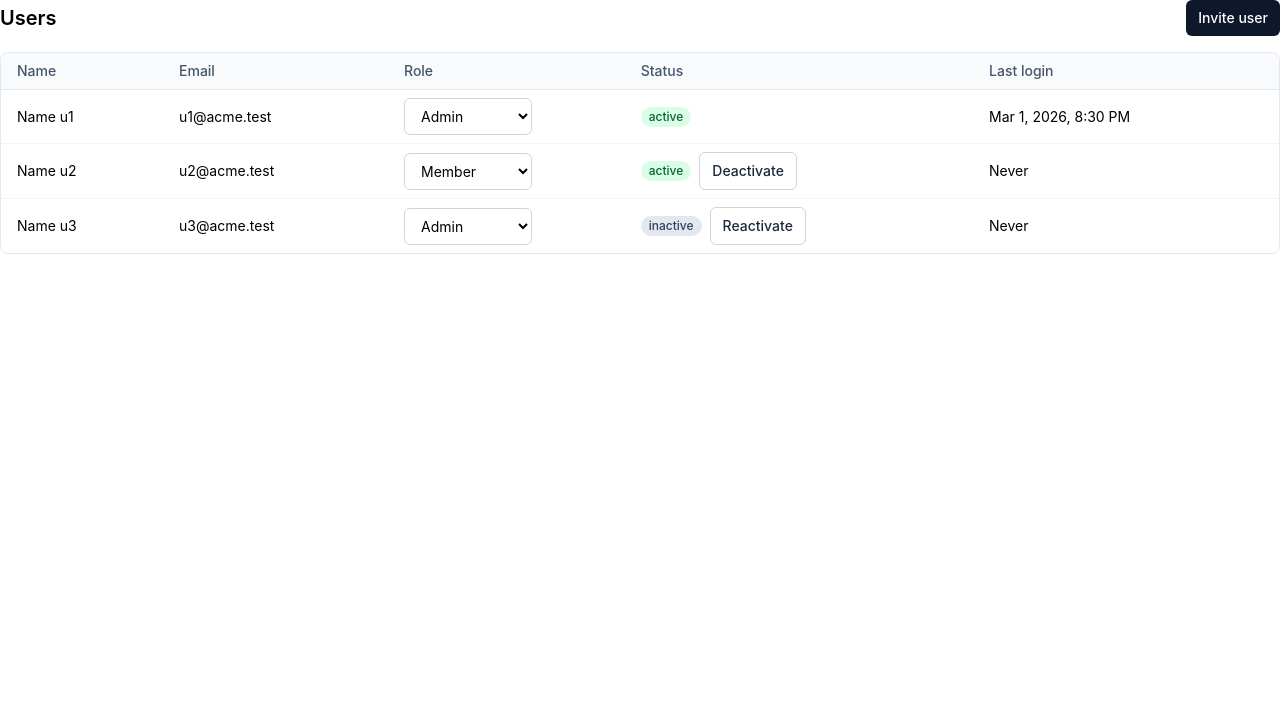
Test: UsersPage › keeps the invite modal open with the typed values when the email is taken
Expected: the text "Name u2" is shown, left=1, top=144, right=163, bottom=198
Click the button "Invite user".
click(1233, 18)  # box left=1186, top=0, right=1279, bottom=36
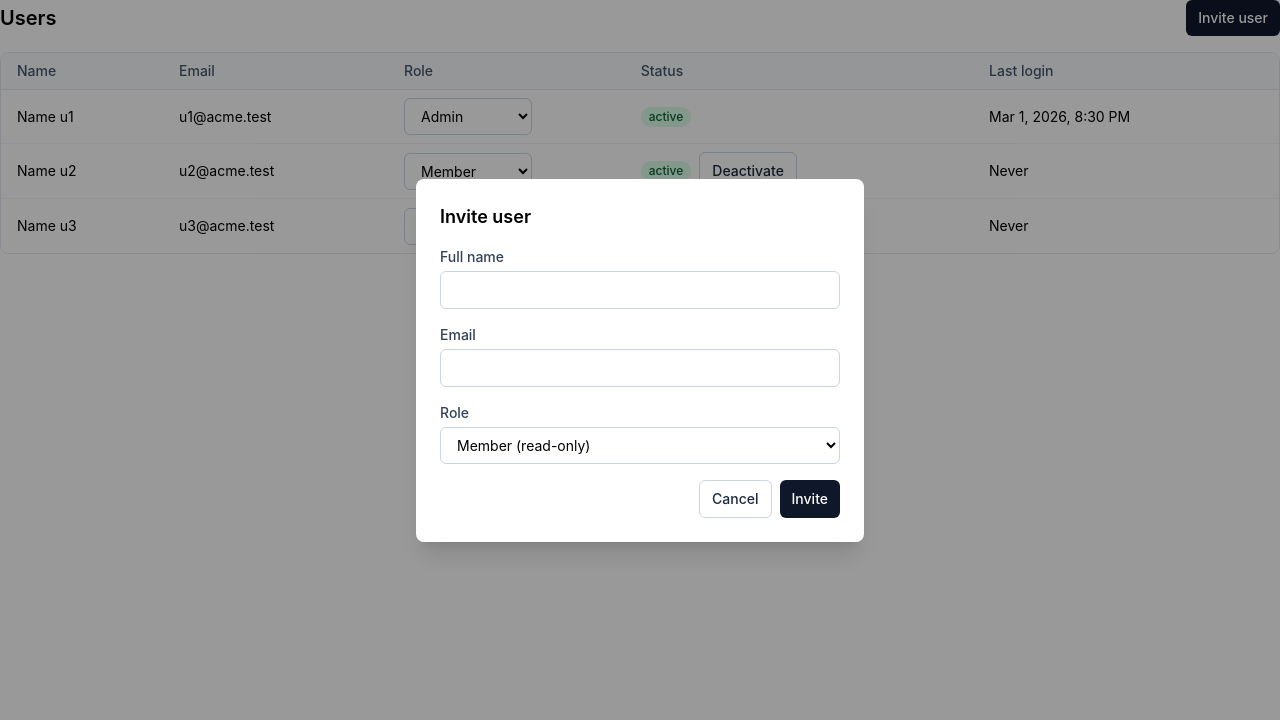
Type "Dup Person" into the field labelled "Full name".
click(640, 290); type("Dup Person")  # box left=440, top=270, right=840, bottom=308
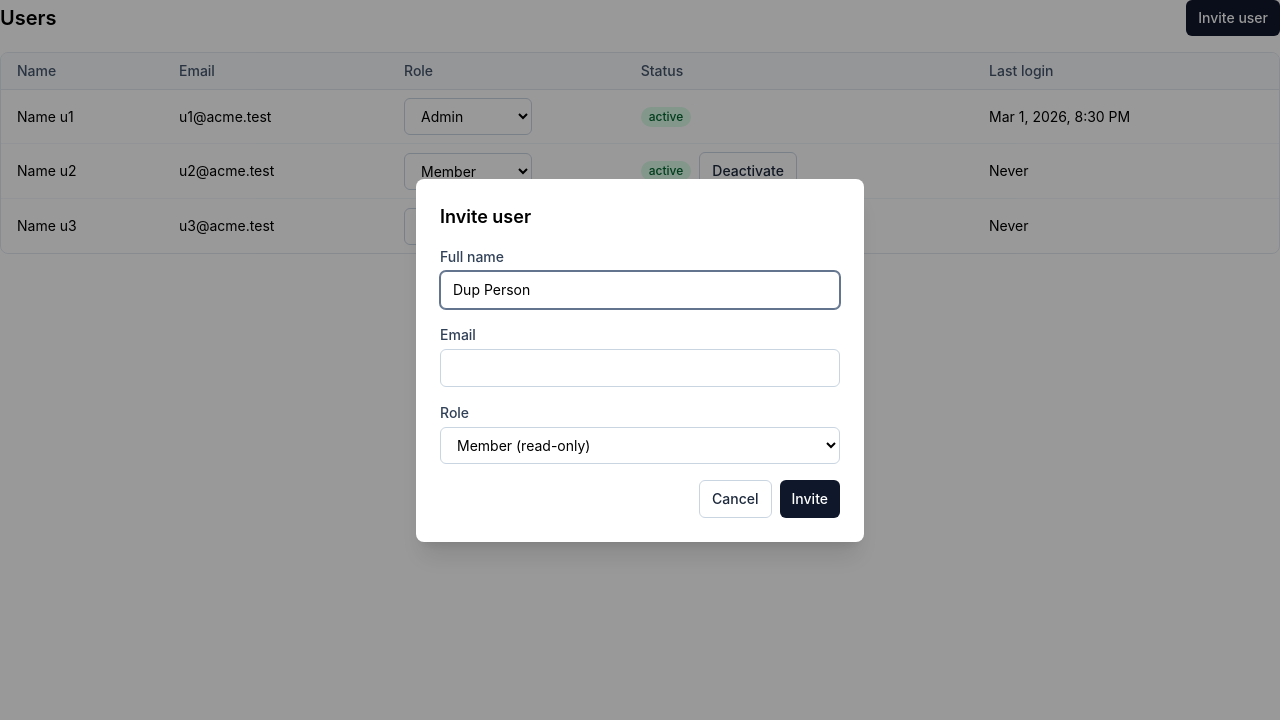
Type "dup@acme.test" into the field labelled "Email".
click(640, 368); type("dup@acme.test")  # box left=440, top=348, right=840, bottom=386
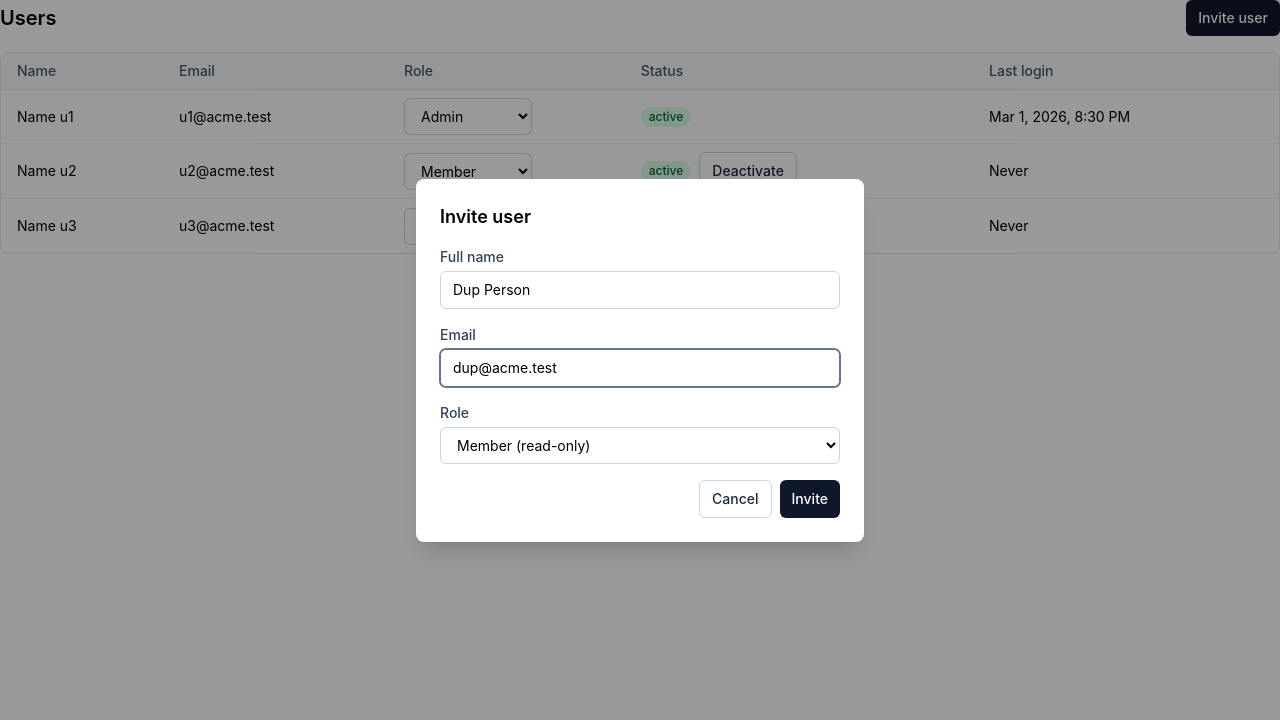
Select "Admin" in the dropdown labelled "Role" at (640,445), box left=440, top=426, right=840, bottom=464
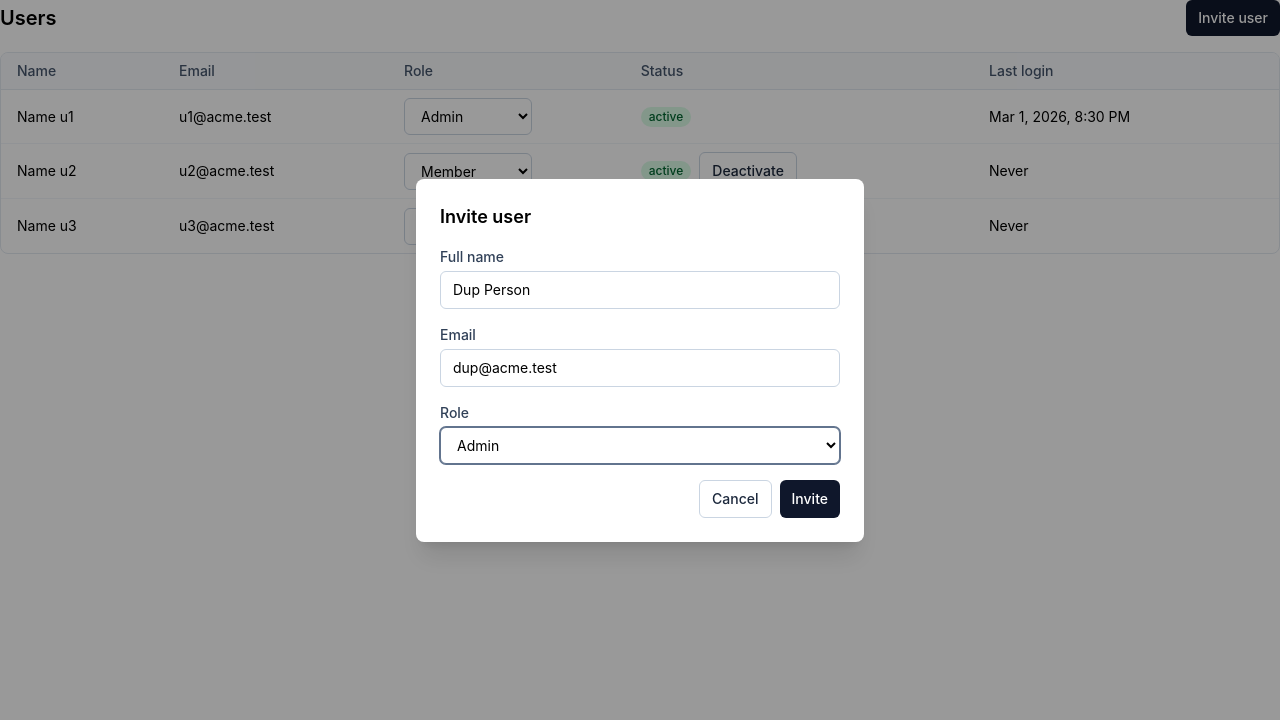
Click the button "Invite".
click(810, 498)  # box left=780, top=480, right=840, bottom=518
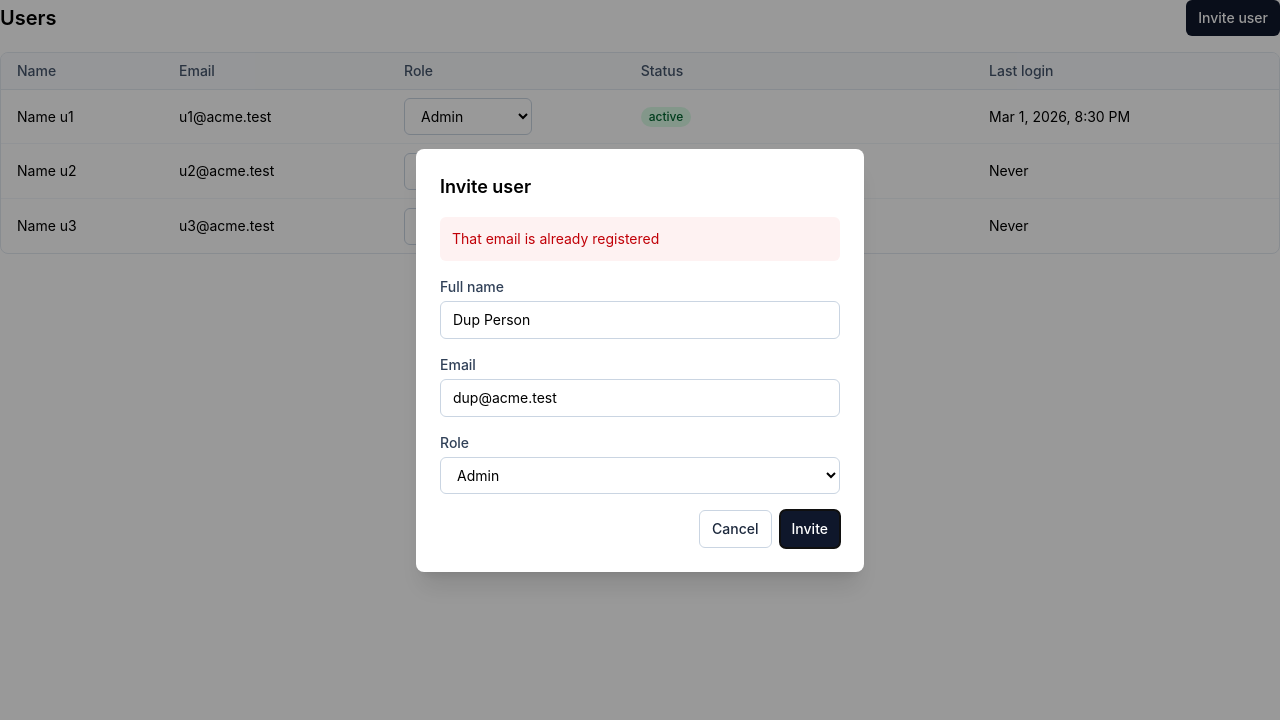
Result: the dialog "Invite user" is shown at left=416, top=148, right=864, bottom=572
Result: the button "Invite" is enabled at left=780, top=510, right=840, bottom=548
Result: the text "That email is already registered" is shown at left=440, top=216, right=840, bottom=260
